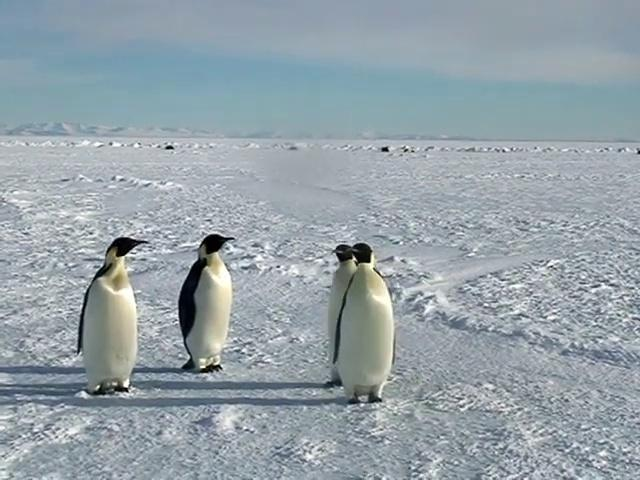animal: (334, 244, 396, 404)
